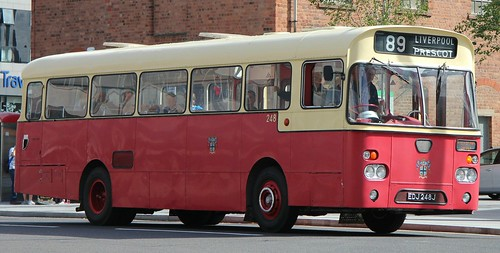bus: (13, 23, 480, 235)
